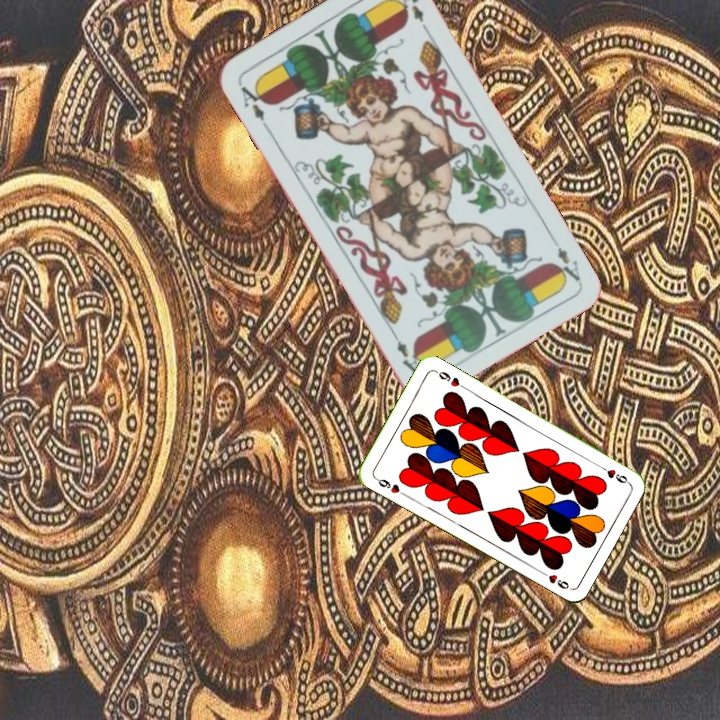EA: (235, 79, 273, 133), (546, 231, 583, 286)
H9: (371, 473, 408, 498), (594, 461, 631, 486)
